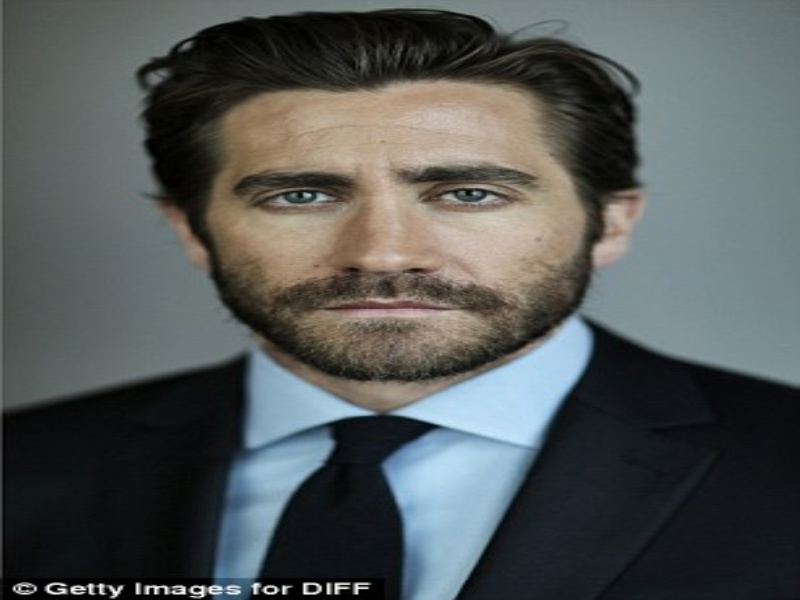face: (225, 116, 573, 364)
